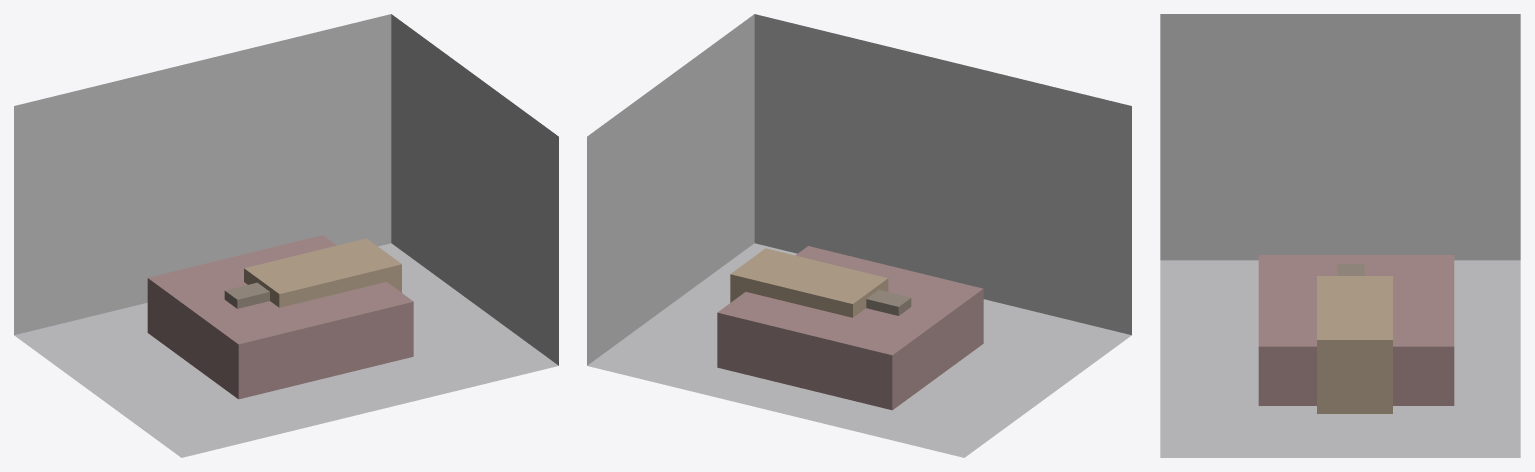
The model's file is optimised_layout.glb.
The picture shows the model from 3 angles, left to right: view 1: azimuth 30°, elevation 25°; view 2: azimuth 150°, elevation 25°; view 3: azimuth 270°, elevation 25°; orthographic projection. The views are drawn at different scales.
Visible parts, largest first — view 1: room, bed, desk, suitcase; view 2: room, bed, desk, suitcase; view 3: room, bed, desk.
Part boxes in pixels (bbox=[...]): room: bbox=[14, 14, 558, 457]; bed: bbox=[147, 235, 413, 399]; desk: bbox=[244, 238, 401, 307]; suitcase: bbox=[224, 282, 269, 308]; room: bbox=[587, 14, 1131, 457]; bed: bbox=[717, 246, 983, 410]; desk: bbox=[730, 248, 888, 317]; suitcase: bbox=[866, 290, 911, 315]; room: bbox=[1160, 14, 1520, 457]; bed: bbox=[1258, 255, 1454, 405]; desk: bbox=[1317, 276, 1392, 413].
Bounding box in the file's own units: 4.31 × 2.5 × 3.31.
